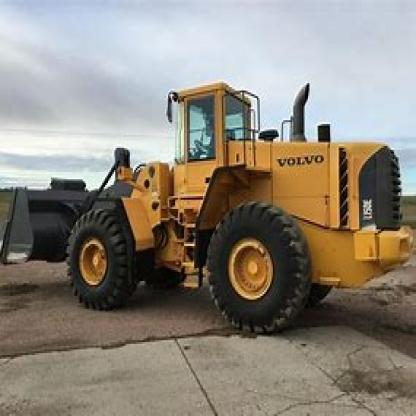bull_dozer/loader/grader: (2, 74, 413, 338)
